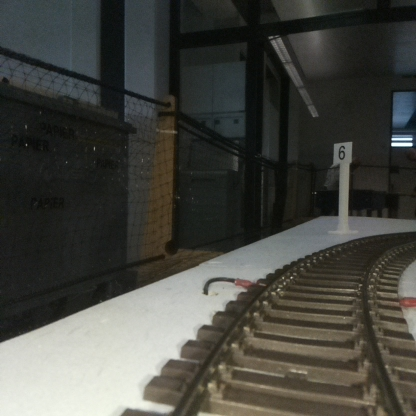white-info-6: (333, 142, 351, 225)
